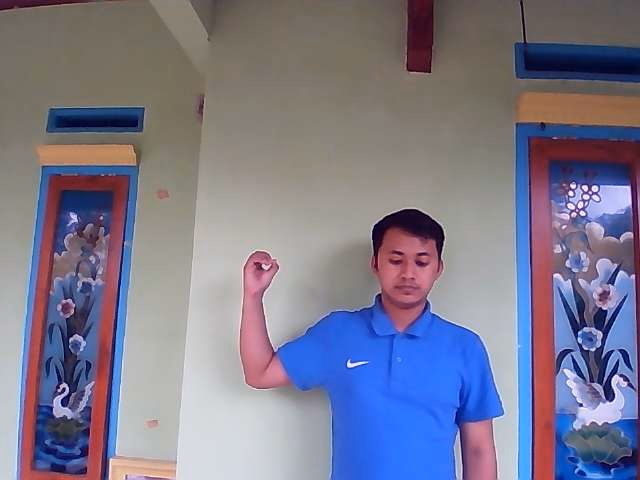O: (240, 249, 280, 295)
